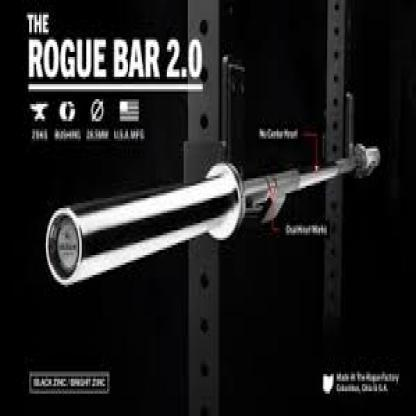Barbell: (43, 204, 91, 296)
